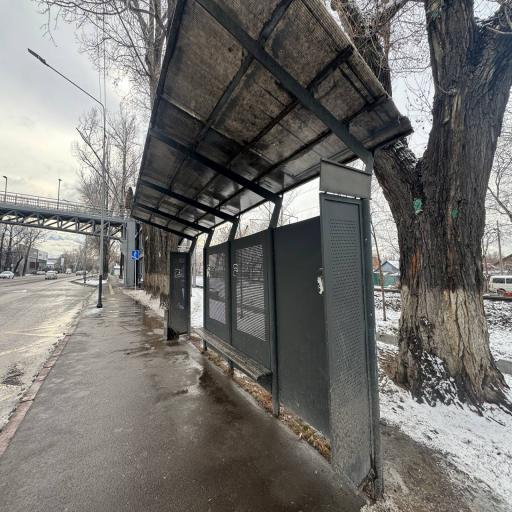book: (132, 0, 411, 498)
ramp: (0, 275, 93, 428)
shelf: (0, 288, 364, 511)
